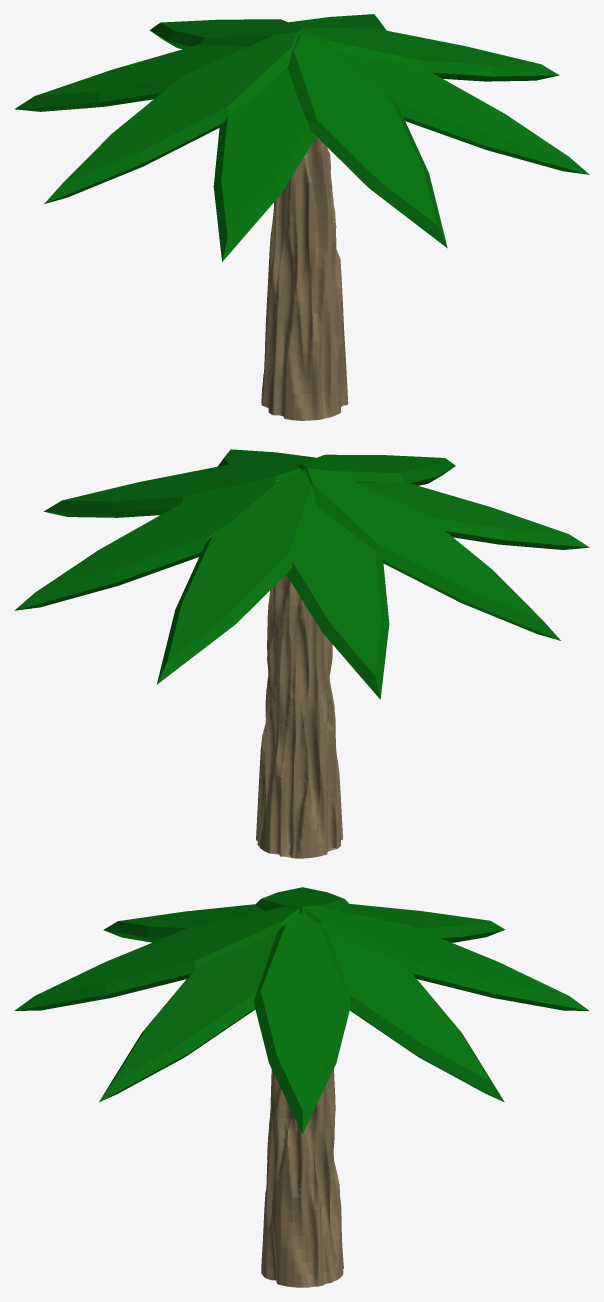
File: Tree.fbx
3 views of the same model, one above another, from view 1: azimuth 30°, elevation 25°; view 2: azimuth 150°, elevation 25°; view 3: azimuth 270°, elevation 25° (orthographic). The views are drawn at different scales.
Parts seen in each view (by area): view 1: Cône, Cube.003, Cube.001, Cube.007, Cube.004, Cube, Cube.006, Cube.002, Cube.005; view 2: Cône, Cube.002, Cube.001, Cube.006, Cube.005, Cube, Cube.007, Cube.003, Cube.004; view 3: Cône, Cube, Cube.004, Cube.005, Cube.003, Cube.002, Cube.006, Cube.007, Cube.001.
Part boxes in pixels (bbox=[...]): Cône: bbox=[261, 29, 348, 420]; Cube.003: bbox=[288, 35, 447, 248]; Cube.001: bbox=[44, 32, 303, 203]; Cube.007: bbox=[213, 68, 316, 261]; Cube.004: bbox=[335, 51, 589, 174]; Cube: bbox=[302, 27, 559, 81]; Cube.006: bbox=[14, 44, 247, 111]; Cube.002: bbox=[149, 19, 306, 49]; Cube.005: bbox=[289, 14, 386, 30]; Cône: bbox=[256, 480, 342, 858]; Cube.002: bbox=[156, 471, 316, 684]; Cube.001: bbox=[300, 468, 560, 640]; Cube.006: bbox=[286, 505, 389, 699]; Cube.005: bbox=[14, 488, 268, 610]; Cube: bbox=[44, 463, 301, 517]; Cube.007: bbox=[356, 482, 589, 549]; Cube.003: bbox=[298, 454, 455, 485]; Cube.004: bbox=[218, 449, 315, 466]; Cône: bbox=[261, 925, 343, 1287]; Cube: bbox=[253, 912, 351, 1133]; Cube.004: bbox=[99, 933, 276, 1101]; Cube.005: bbox=[329, 934, 504, 1101]; Cube.003: bbox=[14, 907, 299, 1010]; Cube.002: bbox=[304, 907, 589, 1010]; Cube.006: bbox=[339, 904, 504, 942]; Cube.007: bbox=[103, 904, 264, 942]; Cube.001: bbox=[255, 887, 348, 914].
Bounding box in the file's own units: 6845 × 4753 × 6851.
